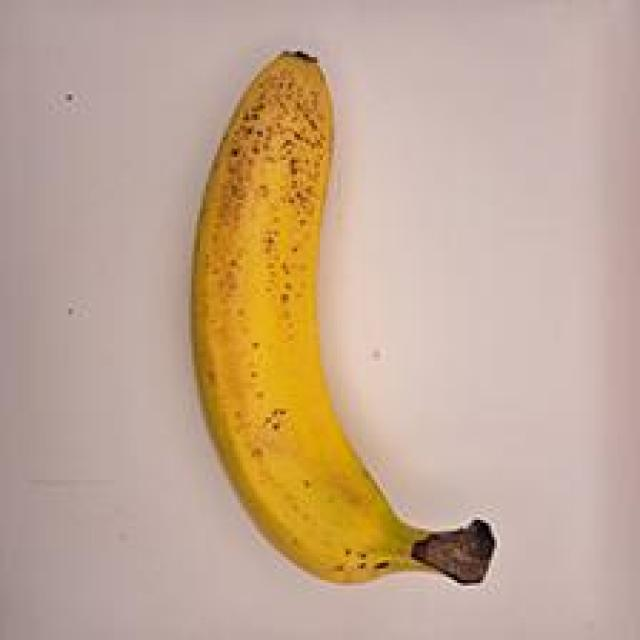ripe: (157, 45, 515, 595)
